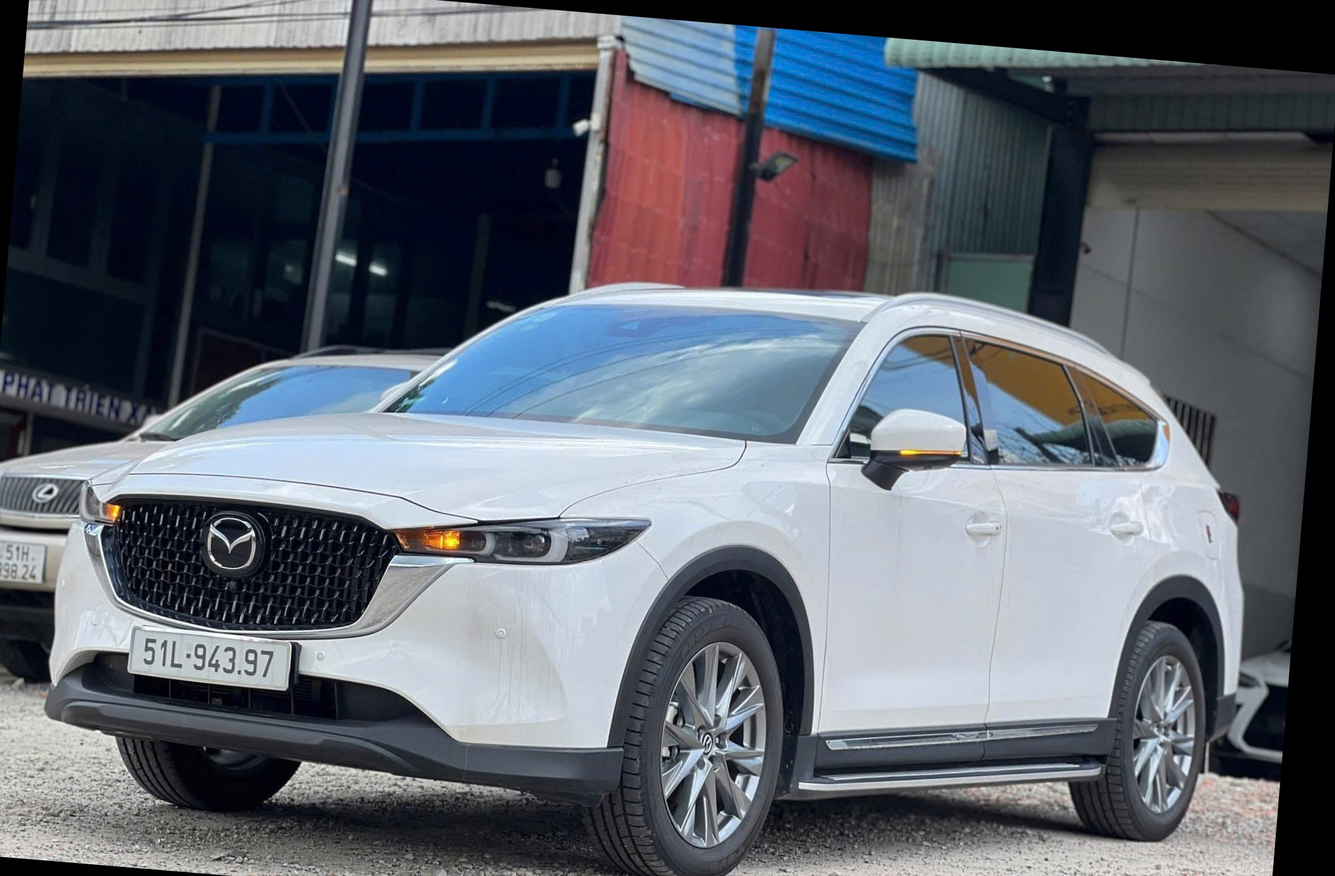Bien-so: (132, 621, 296, 690), (0, 539, 50, 587)
